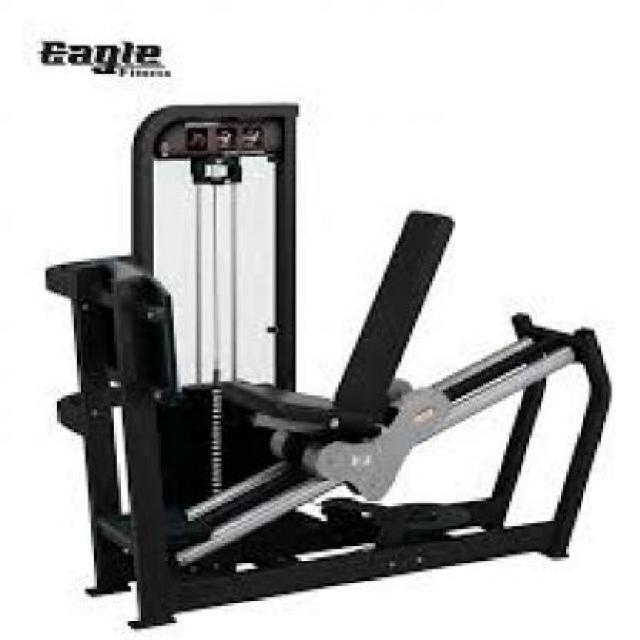leg press: (52, 94, 636, 634)
